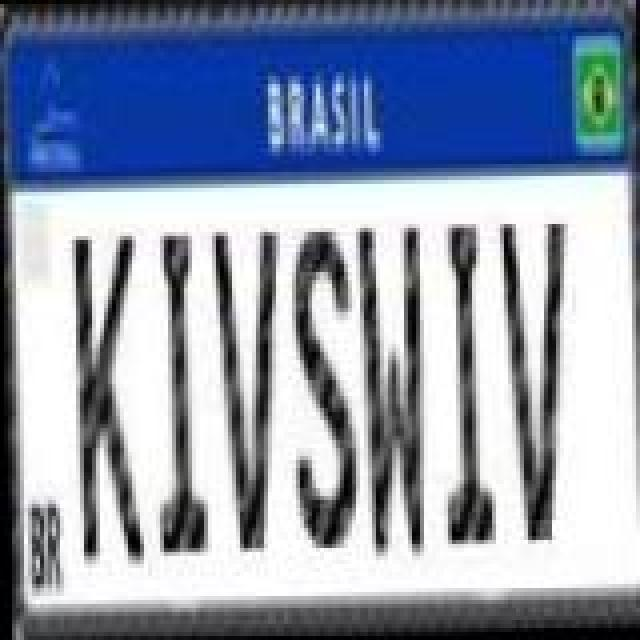I: (148, 230, 208, 554), (432, 222, 492, 546)
K: (72, 234, 148, 570)
S: (286, 226, 358, 550)
V: (212, 230, 288, 554), (496, 220, 572, 544)
W: (354, 226, 426, 562)
